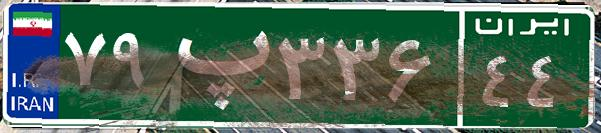3: (273, 28, 330, 110), (330, 28, 385, 110)
4: (475, 38, 525, 113), (525, 38, 570, 115)
6: (385, 28, 445, 110)
7: (57, 26, 110, 107)
9: (110, 28, 158, 105)
پ: (158, 15, 273, 115)
